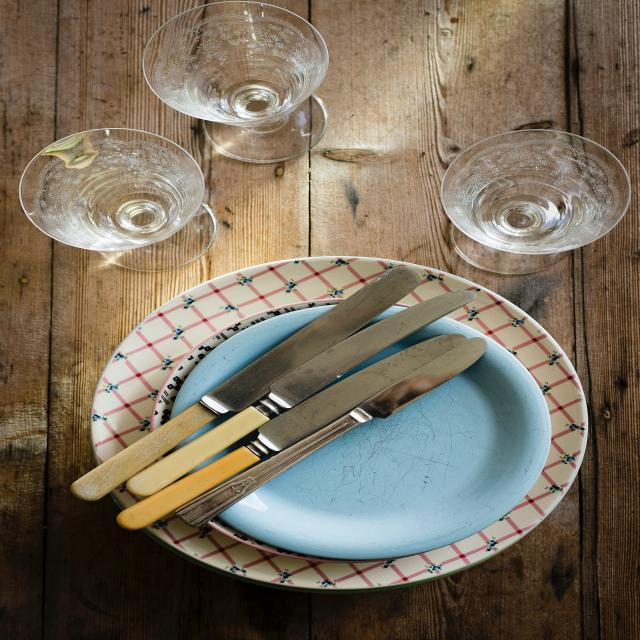Metal: (206, 270, 421, 419), (245, 335, 486, 461)
